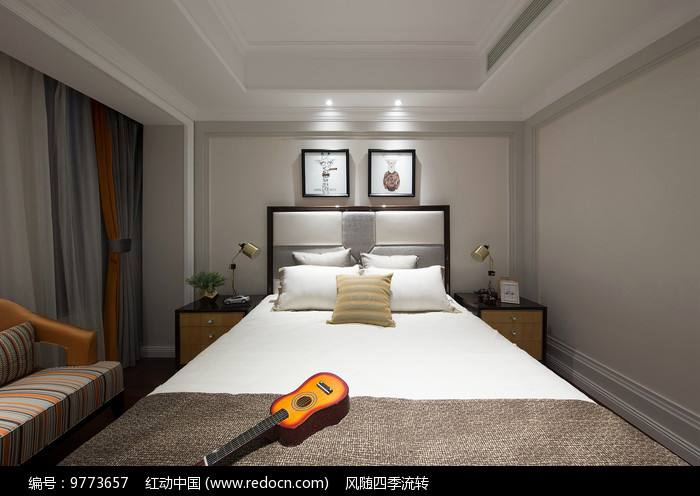床: (57, 305, 689, 471)
枕头: (276, 252, 462, 326)
灯: (227, 241, 261, 303), (473, 243, 503, 301), (321, 93, 337, 110), (390, 98, 405, 112)
